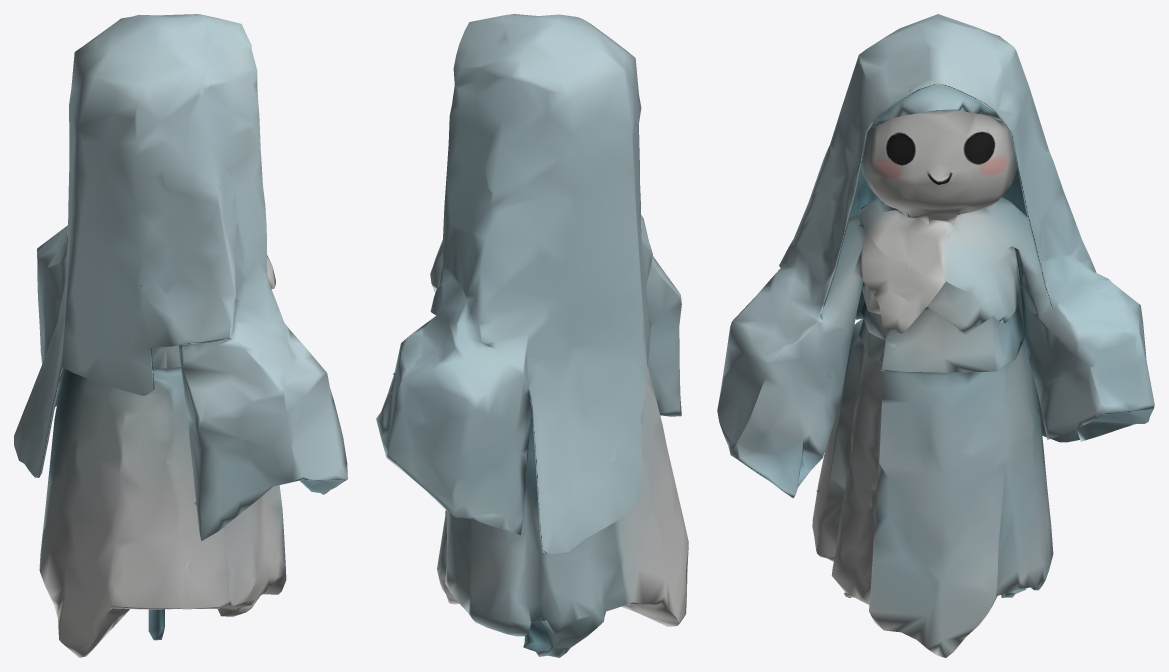
File: ghost_nun.glb
The picture shows the model from 3 angles, left to right: view 1: azimuth 30°, elevation 25°; view 2: azimuth 150°, elevation 25°; view 3: azimuth 270°, elevation 25°; orthographic projection. The views are drawn at different scales.
Visible parts, largest first — view 1: tripo_node_4c021944-995a-400c-9b4d-126eefd87e2d; view 2: tripo_node_4c021944-995a-400c-9b4d-126eefd87e2d; view 3: tripo_node_4c021944-995a-400c-9b4d-126eefd87e2d.
Boxes of the visible parts, x1,y1,x2,y2 form: tripo_node_4c021944-995a-400c-9b4d-126eefd87e2d: (14, 14, 347, 657); tripo_node_4c021944-995a-400c-9b4d-126eefd87e2d: (376, 14, 688, 657); tripo_node_4c021944-995a-400c-9b4d-126eefd87e2d: (717, 14, 1154, 657).
Bounding box in the file's own units: 0.3609 × 1 × 0.6523.
1 material, 1 textured.
